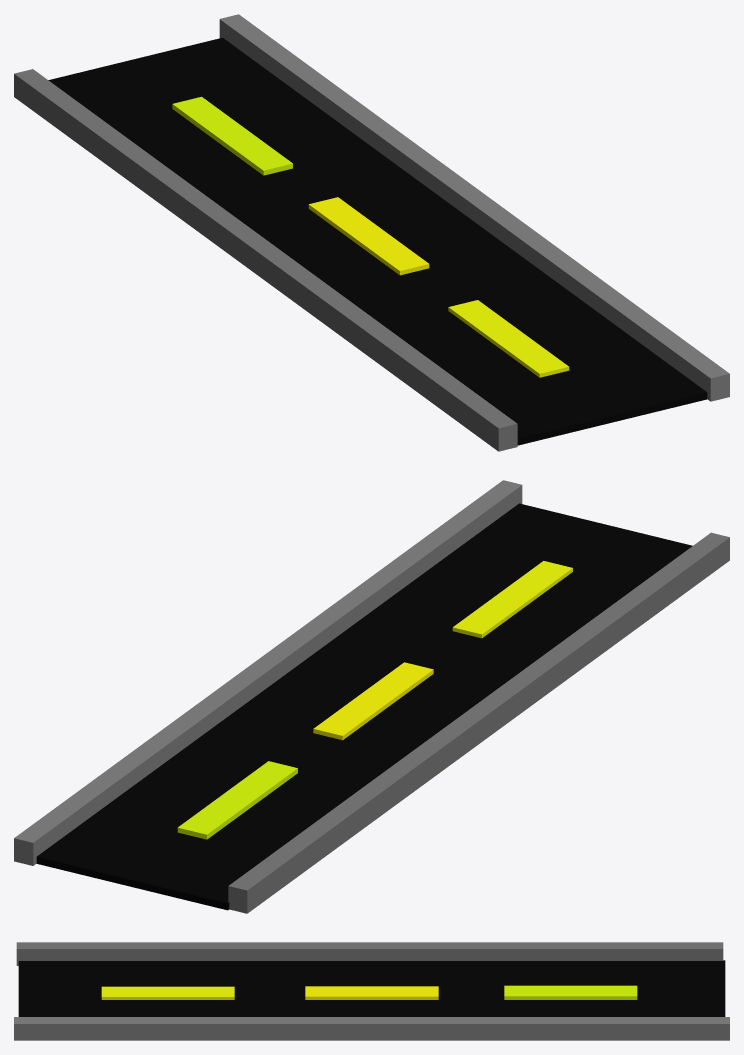
The model's file is дорога.fbx.
3 renders of one model, top to bottom at view 1: azimuth 30°, elevation 25°; view 2: azimuth 150°, elevation 25°; view 3: azimuth 270°, elevation 25°, orthographic. The views are drawn at different scales.
Visible parts, largest first — view 1: Cube.002, Cube, Cube.001, Cube.004, Cube.003, Cube.005; view 2: Cube.002, Cube, Cube.001, Cube.004, Cube.003, Cube.005; view 3: Cube.002, Cube.001, Cube, Cube.004, Cube.003, Cube.005.
Part boxes in pixels (x1,y1,x2,y2): Cube.002: [48, 37, 707, 445]; Cube: [14, 69, 517, 451]; Cube.001: [219, 14, 729, 401]; Cube.004: [172, 96, 292, 175]; Cube.003: [308, 197, 429, 275]; Cube.005: [448, 300, 569, 377]; Cube.002: [36, 503, 692, 910]; Cube: [228, 532, 729, 913]; Cube.001: [14, 480, 522, 865]; Cube.004: [177, 761, 297, 839]; Cube.003: [313, 662, 433, 740]; Cube.005: [452, 561, 572, 638]; Cube.002: [18, 960, 725, 1016]; Cube.001: [14, 1017, 729, 1040]; Cube: [16, 942, 723, 965]; Cube.004: [504, 985, 637, 999]; Cube.003: [305, 986, 438, 999]; Cube.005: [101, 986, 234, 999].
Bounding box in the file's own units: 6868 × 668 × 25456.
